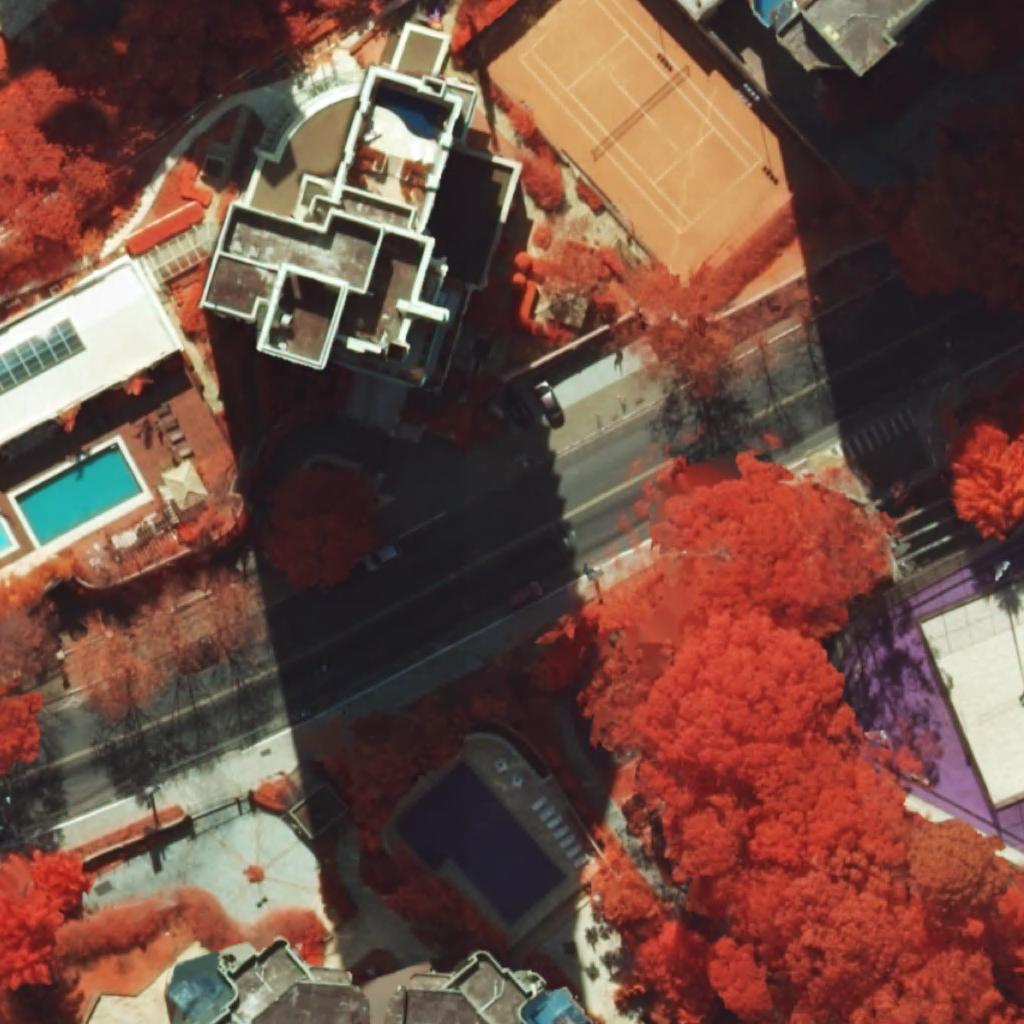pool: (395, 761, 567, 927), (14, 441, 144, 547), (374, 87, 448, 140), (520, 991, 572, 1024), (755, 0, 781, 25)
